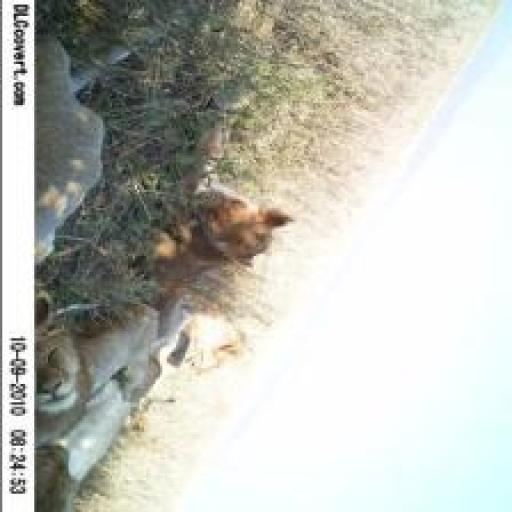lion: (121, 140, 296, 298), (140, 306, 300, 385)
